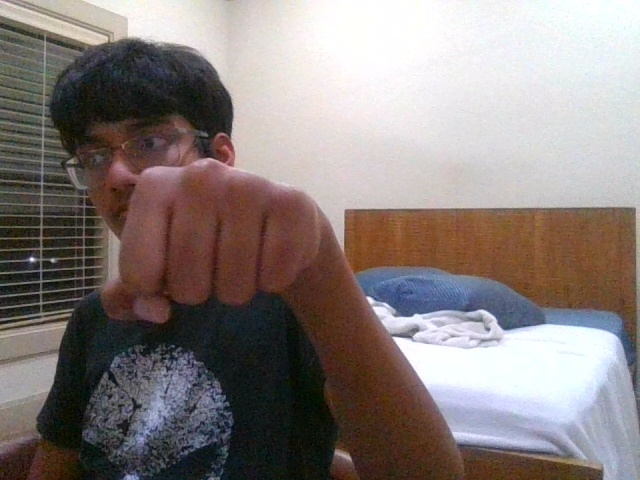yes: (100, 158, 320, 323)
